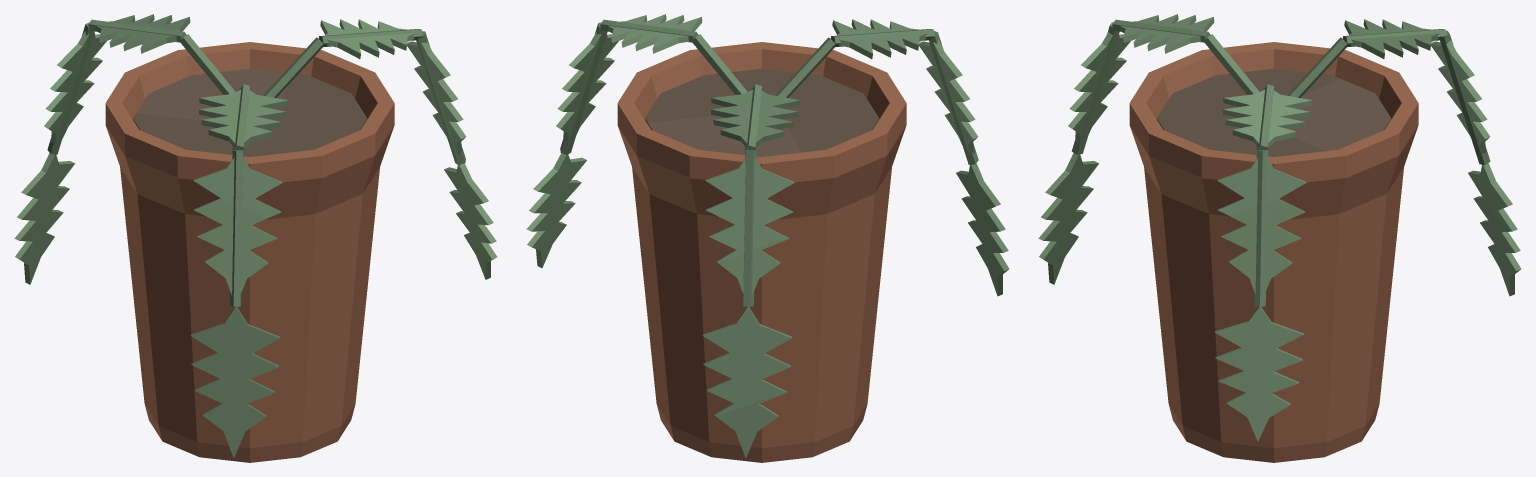
The model's file is new-anguliger.glb.
3 views of the same model, side by side, from view 1: azimuth 30°, elevation 25°; view 2: azimuth 150°, elevation 25°; view 3: azimuth 270°, elevation 25° (orthographic).
Parts seen in each view (by area): view 1: new-anguliger/review-terra-vessel, new-anguliger/review-rooted-soil, new-anguliger/flattened-stem-segment-005, new-anguliger/flattened-stem-segment-003, new-anguliger/flattened-stem-segment-017, new-anguliger/flattened-stem-segment-001, new-anguliger/flattened-stem-segment-015, new-anguliger/flattened-stem-segment-011, new-anguliger/flattened-stem-segment-009, new-anguliger/flattened-stem-segment-007, new-anguliger/flattened-stem-segment-013, new-anguliger/petiole-006 (+7 smaller); view 2: new-anguliger/review-terra-vessel, new-anguliger/review-rooted-soil, new-anguliger/flattened-stem-segment-017, new-anguliger/flattened-stem-segment-015, new-anguliger/flattened-stem-segment-011, new-anguliger/flattened-stem-segment-013, new-anguliger/flattened-stem-segment-005, new-anguliger/flattened-stem-segment-009, new-anguliger/flattened-stem-segment-003, new-anguliger/flattened-stem-segment-001, new-anguliger/flattened-stem-segment-007, new-anguliger/petiole-018 (+7 smaller); view 3: new-anguliger/review-terra-vessel, new-anguliger/review-rooted-soil, new-anguliger/flattened-stem-segment-011, new-anguliger/flattened-stem-segment-009, new-anguliger/flattened-stem-segment-005, new-anguliger/flattened-stem-segment-007, new-anguliger/flattened-stem-segment-017, new-anguliger/flattened-stem-segment-003, new-anguliger/flattened-stem-segment-015, new-anguliger/flattened-stem-segment-013, new-anguliger/flattened-stem-segment-001, new-anguliger/petiole-012 (+7 smaller).
Boxes of the visible parts, box(x1,y1,x2,y2) form: new-anguliger/review-terra-vessel: box(105, 42, 394, 462); new-anguliger/review-rooted-soil: box(133, 68, 367, 156); new-anguliger/flattened-stem-segment-005: box(191, 306, 280, 458); new-anguliger/flattened-stem-segment-003: box(193, 157, 282, 295); new-anguliger/flattened-stem-segment-017: box(14, 153, 74, 284); new-anguliger/flattened-stem-segment-001: box(199, 89, 288, 147); new-anguliger/flattened-stem-segment-015: box(44, 31, 106, 145); new-anguliger/flattened-stem-segment-011: box(444, 163, 497, 279); new-anguliger/flattened-stem-segment-009: box(407, 41, 466, 155); new-anguliger/flattened-stem-segment-007: box(320, 19, 415, 58); new-anguliger/flattened-stem-segment-013: box(96, 14, 190, 53); new-anguliger/petiole-006: box(230, 150, 243, 306); new-anguliger/review-terra-vessel: box(617, 42, 906, 462); new-anguliger/review-rooted-soil: box(645, 68, 879, 156); new-anguliger/flattened-stem-segment-017: box(703, 306, 792, 458); new-anguliger/flattened-stem-segment-015: box(705, 157, 794, 295); new-anguliger/flattened-stem-segment-011: box(526, 153, 586, 267); new-anguliger/flattened-stem-segment-013: box(711, 89, 800, 147); new-anguliger/flattened-stem-segment-005: box(956, 163, 1009, 296); new-anguliger/flattened-stem-segment-009: box(556, 31, 618, 145); new-anguliger/flattened-stem-segment-003: box(919, 39, 978, 155); new-anguliger/flattened-stem-segment-001: box(832, 19, 927, 58); new-anguliger/flattened-stem-segment-007: box(608, 14, 702, 53); new-anguliger/petiole-018: box(742, 150, 756, 306); new-anguliger/review-terra-vessel: box(1129, 42, 1418, 462); new-anguliger/review-rooted-soil: box(1157, 68, 1391, 156); new-anguliger/flattened-stem-segment-011: box(1215, 306, 1304, 441); new-anguliger/flattened-stem-segment-009: box(1217, 157, 1306, 295); new-anguliger/flattened-stem-segment-005: box(1038, 153, 1098, 284); new-anguliger/flattened-stem-segment-007: box(1223, 89, 1312, 147); new-anguliger/flattened-stem-segment-017: box(1468, 163, 1521, 296); new-anguliger/flattened-stem-segment-003: box(1068, 32, 1130, 143); new-anguliger/flattened-stem-segment-015: box(1431, 40, 1490, 153); new-anguliger/flattened-stem-segment-013: box(1344, 19, 1439, 58); new-anguliger/flattened-stem-segment-001: box(1120, 14, 1214, 53); new-anguliger/petiole-012: box(1254, 150, 1268, 306).
Bounding box in the file's own units: 0.2915 × 0.2678 × 0.3175.
3 materials, 3 textured.
